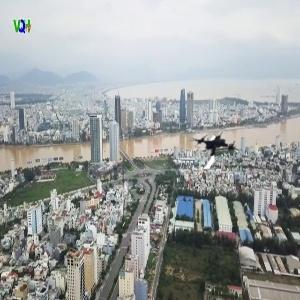drone: (185, 125, 239, 179)
